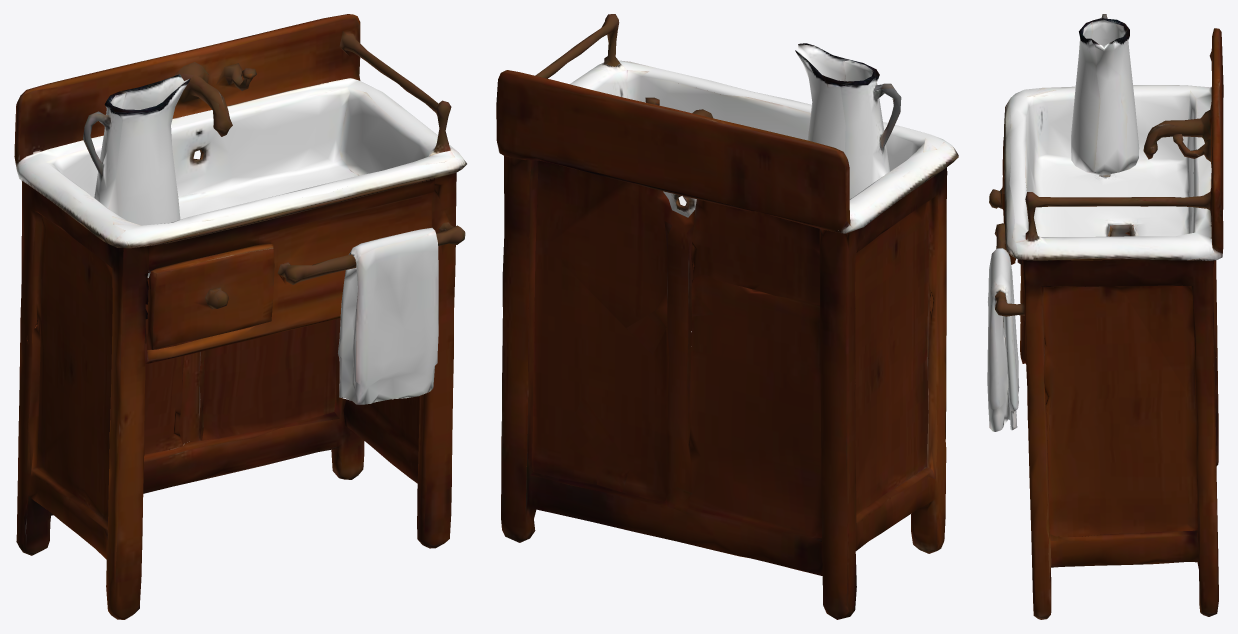
File: lavatorio.glb
3 renders of one model, left to right at view 1: azimuth 30°, elevation 25°; view 2: azimuth 150°, elevation 25°; view 3: azimuth 270°, elevation 25°, orthographic. The views are drawn at different scales.
Visible parts, largest first — view 1: geometry_0; view 2: geometry_0; view 3: geometry_0.
Boxes of the visible parts, x1,y1,x2,y2 form: geometry_0: (14, 14, 466, 619); geometry_0: (496, 14, 958, 619); geometry_0: (987, 14, 1223, 619).
Bounding box in the file's own units: 0.75 × 1 × 0.4499.
1 material, 1 textured.
